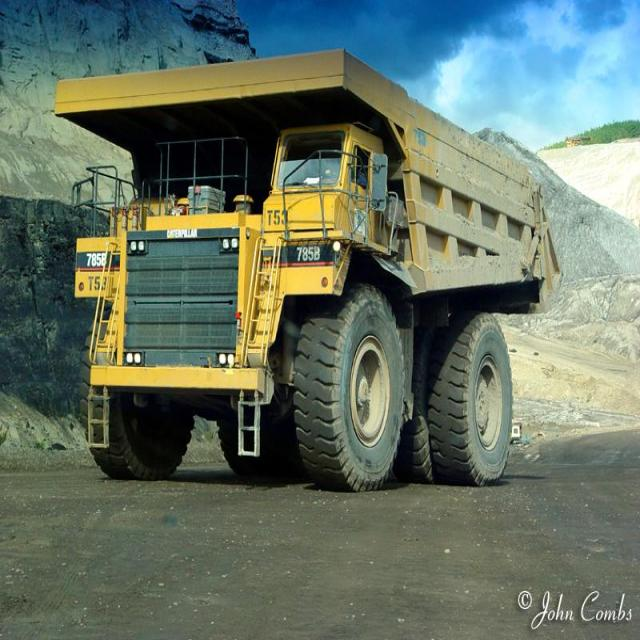dump_truck: (41, 51, 568, 496)
